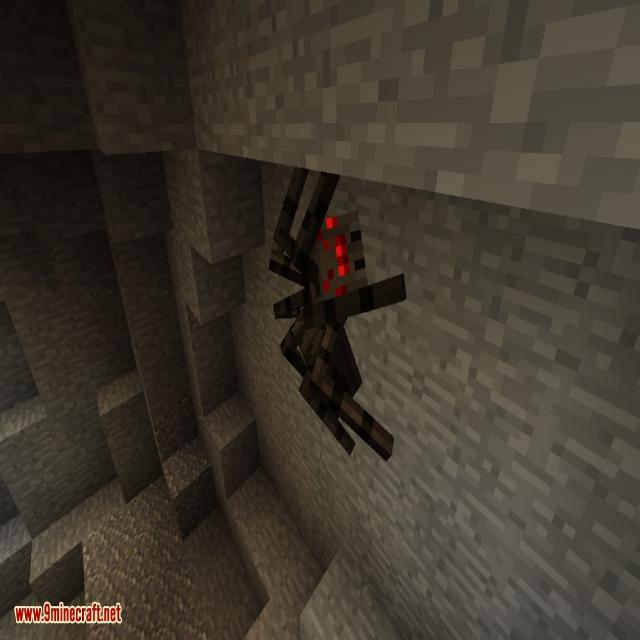Spider: (267, 165, 406, 462)
